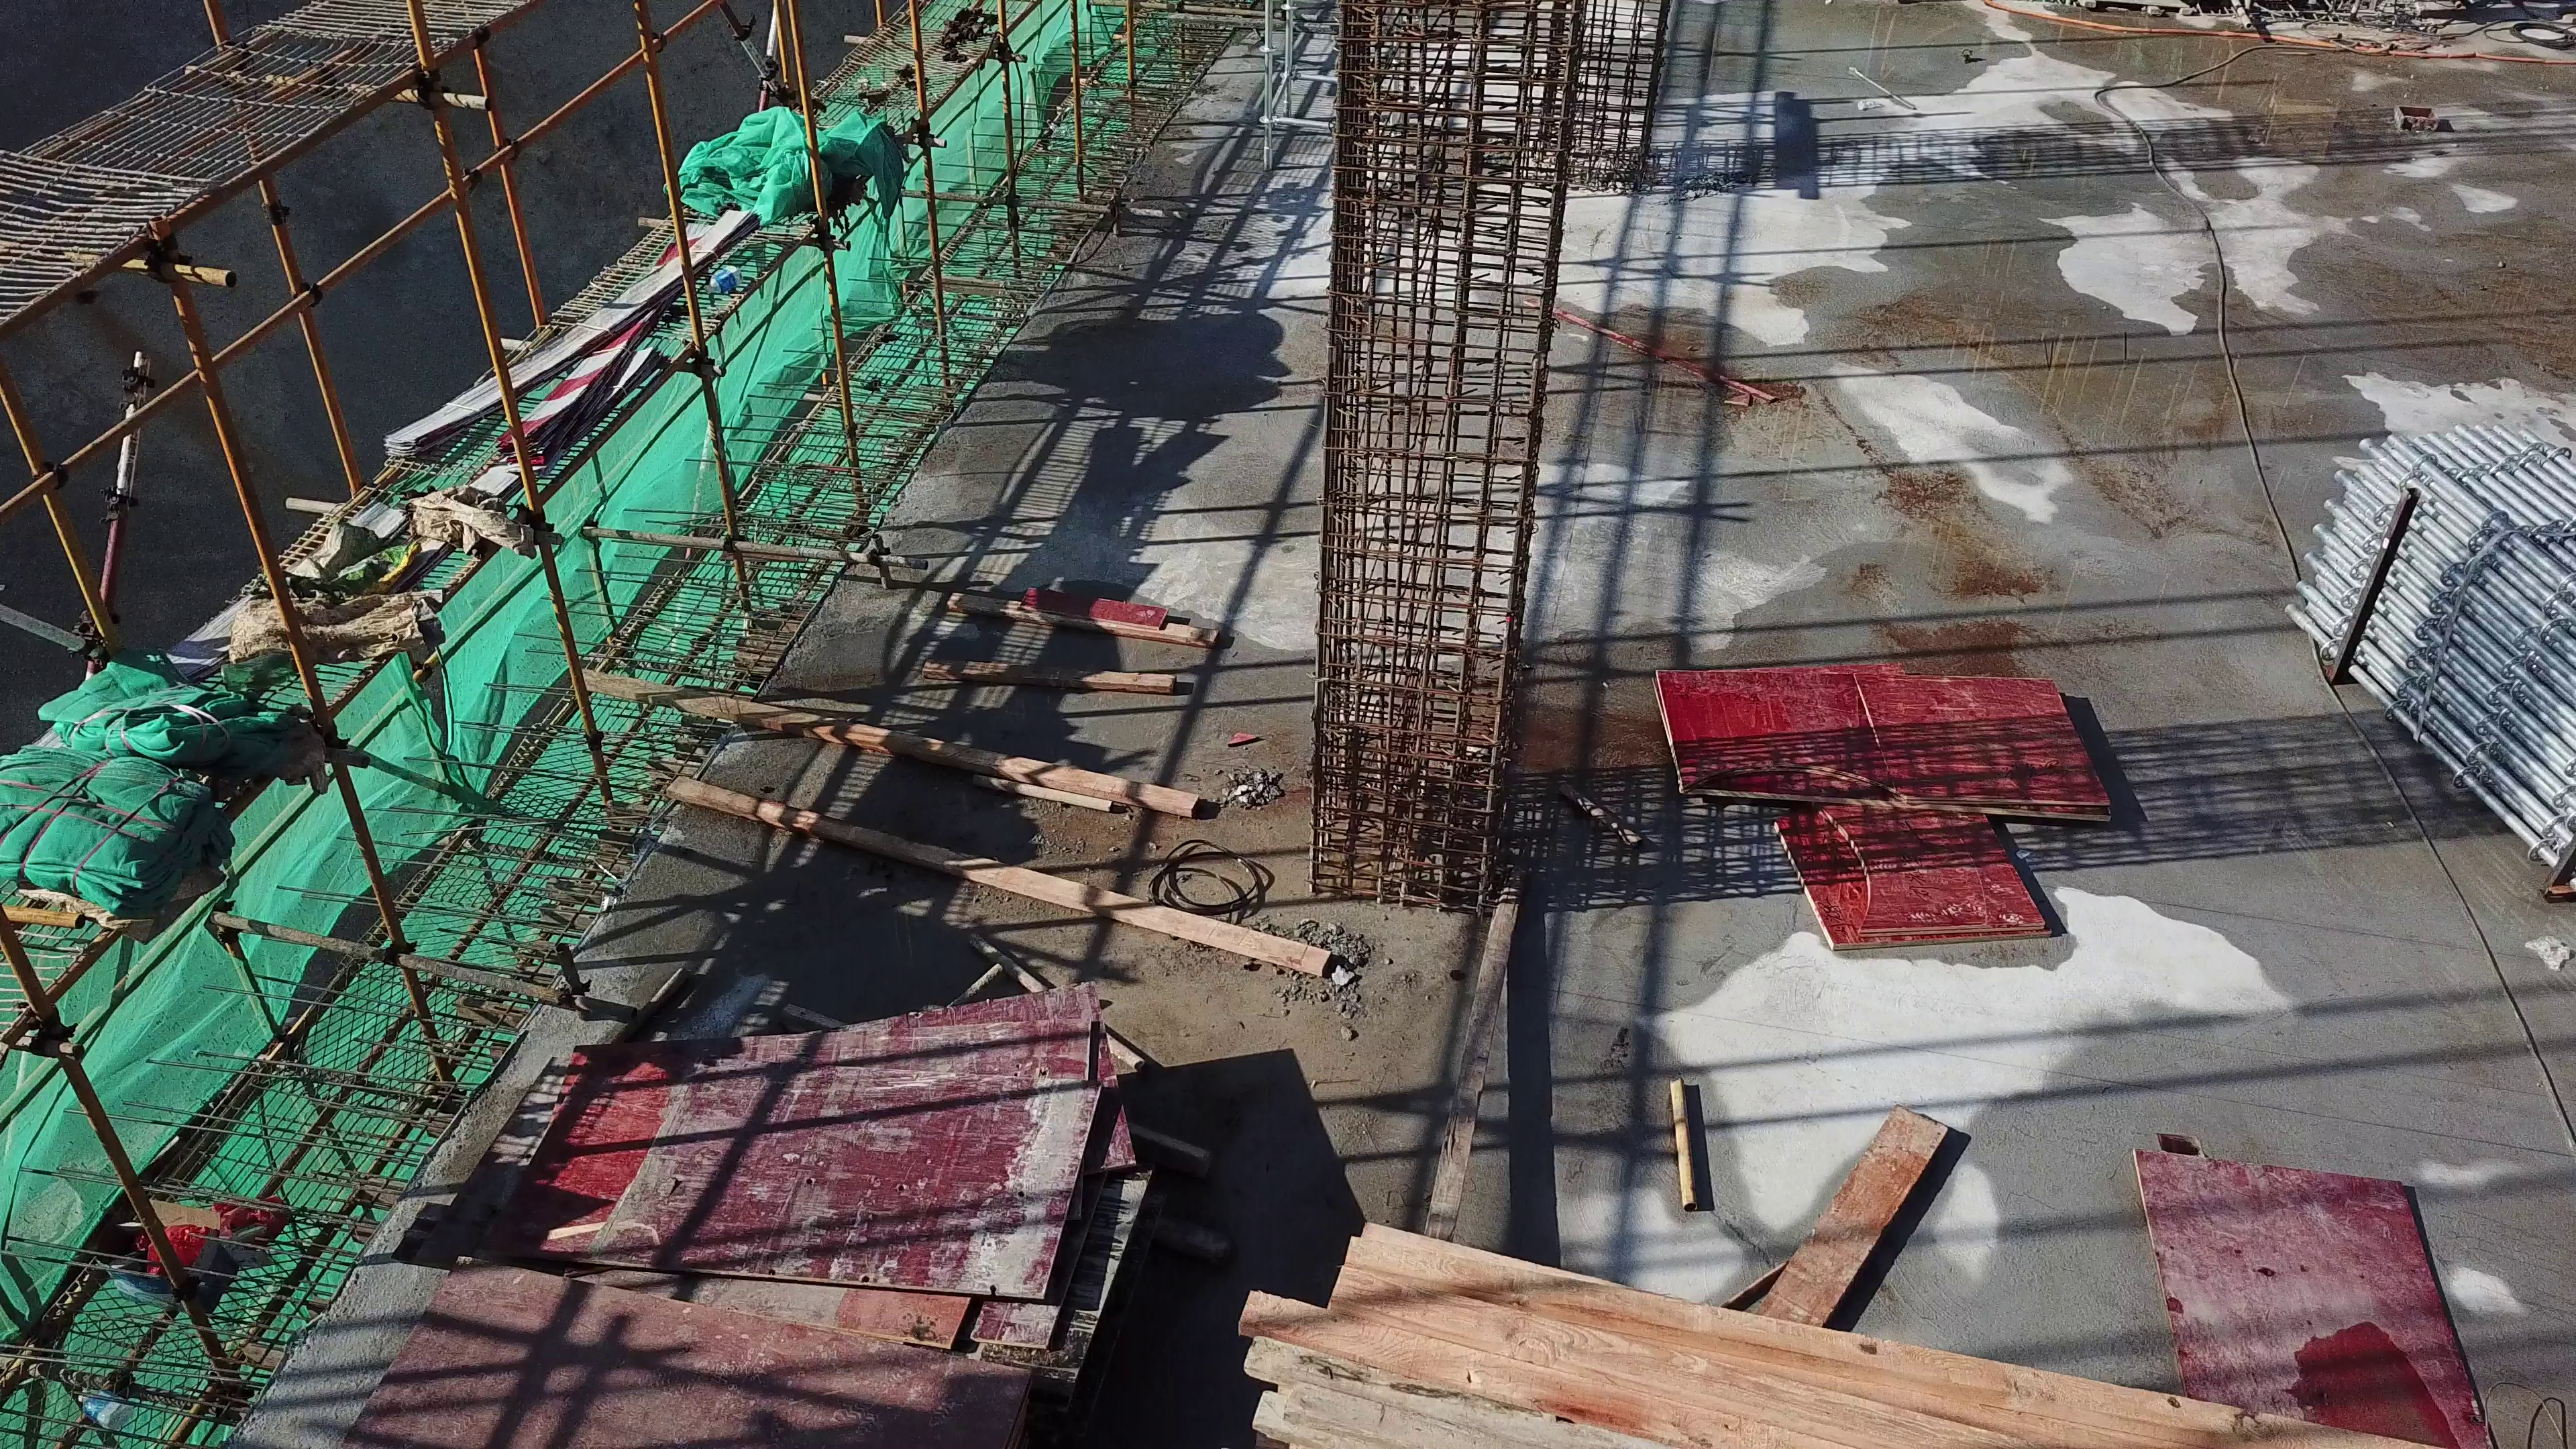board: (334, 968, 1157, 1449), (1638, 648, 2121, 962), (2104, 1122, 2521, 1449)
scaffold: (2293, 421, 2576, 888)
wood: (1228, 1200, 2293, 1449)
